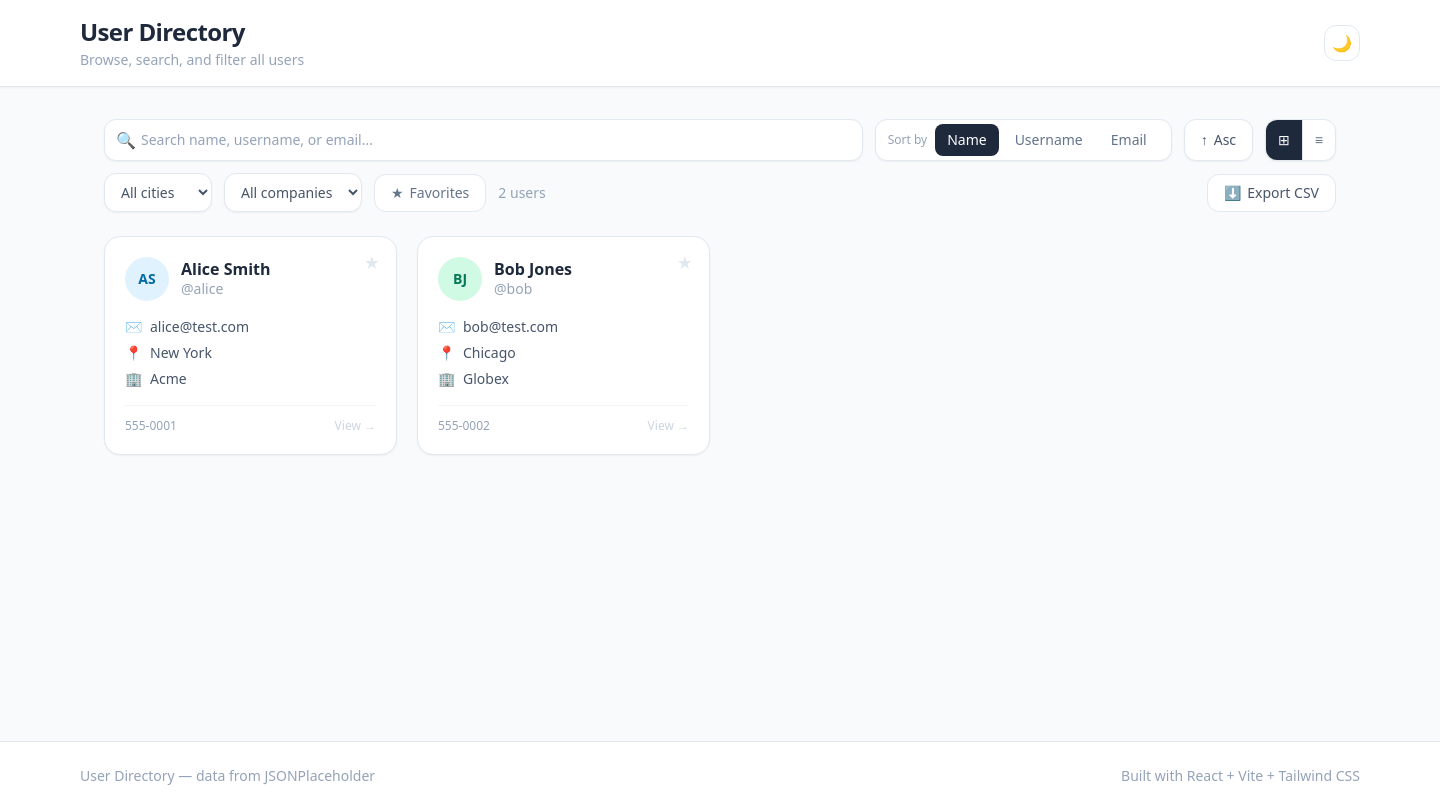
Test: Home page › shows empty state when no results match
Expected: the text "Alice Smith" is shown, x1=181 y1=259 x2=270 y2=279
Type "zzzzz" into the field with placeholder "Search name, username, or email…" at (483, 140), box x1=104 y1=119 x2=863 y2=161
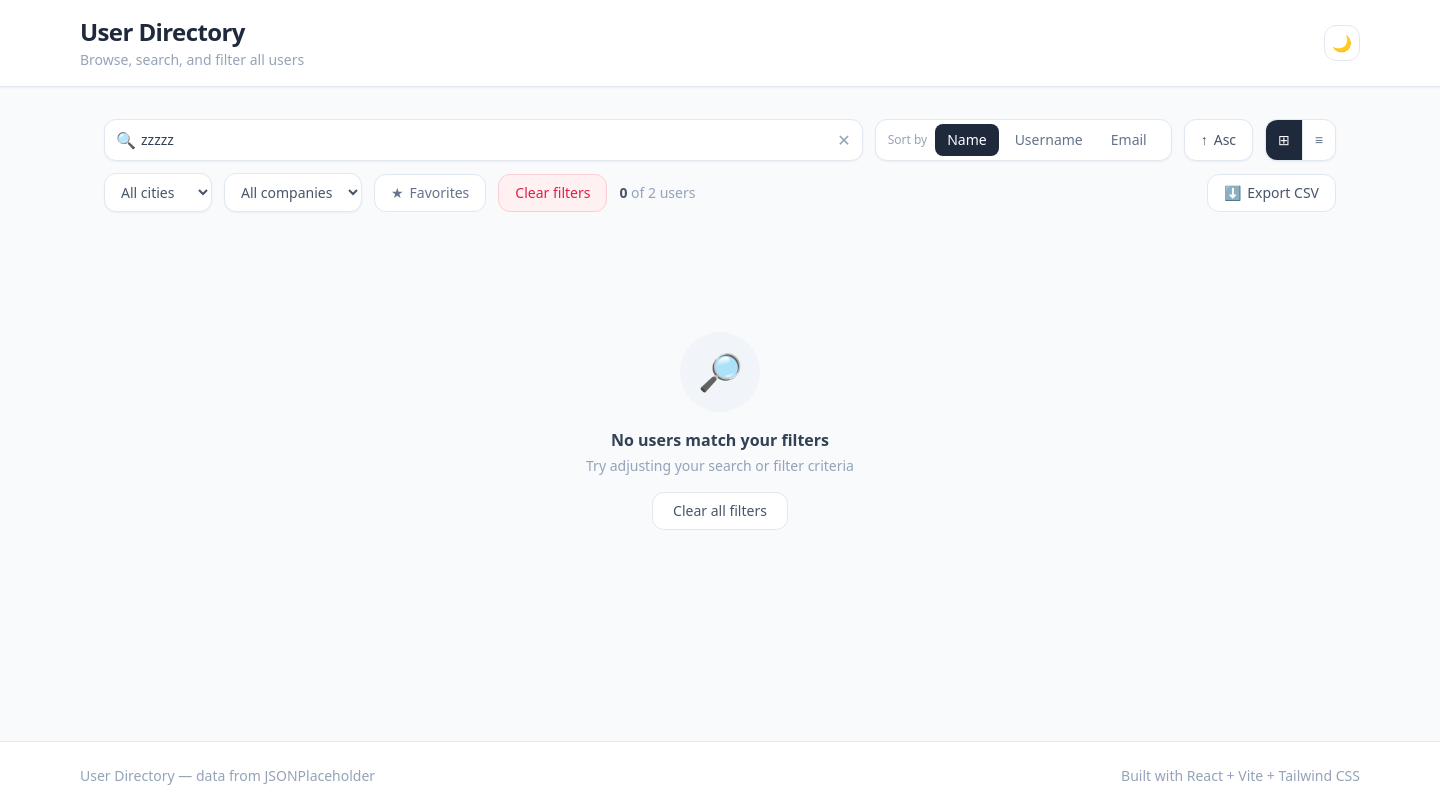
Now the text "No users match your filters" is shown, box x1=611 y1=429 x2=829 y2=451
